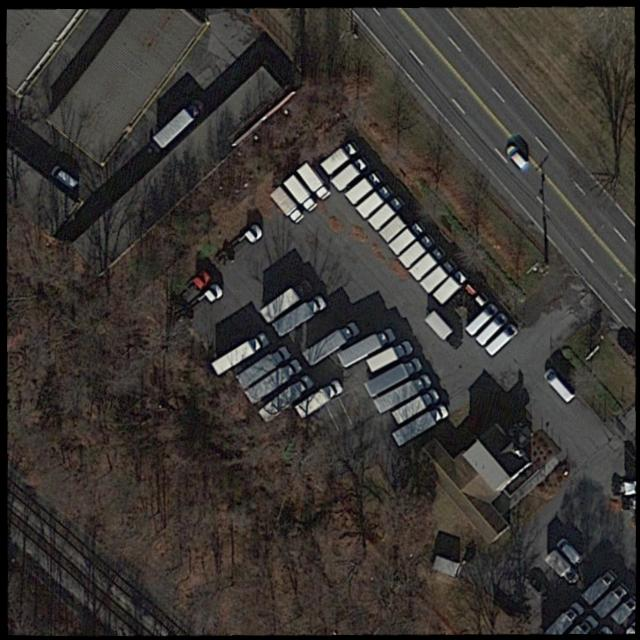large-vehicle: (150, 95, 207, 150), (207, 329, 269, 376), (256, 373, 311, 422), (300, 320, 357, 366), (241, 358, 298, 403), (334, 325, 395, 367), (388, 402, 447, 445), (361, 354, 421, 396), (269, 292, 325, 336), (232, 343, 289, 386), (370, 372, 428, 414), (257, 277, 310, 322), (293, 378, 342, 419), (388, 387, 438, 423), (362, 337, 411, 372), (540, 546, 580, 586), (579, 565, 619, 604), (266, 182, 303, 224), (591, 580, 629, 620), (416, 256, 455, 294), (405, 241, 444, 279), (352, 183, 392, 220), (538, 366, 575, 406), (317, 139, 357, 175), (366, 193, 403, 231), (280, 171, 315, 211), (429, 267, 466, 304), (294, 162, 330, 200), (328, 155, 366, 190), (481, 321, 519, 356), (385, 221, 423, 255), (343, 170, 382, 203), (472, 309, 506, 346), (395, 233, 432, 267), (462, 301, 496, 335)
small-vehicle: (47, 161, 79, 193), (553, 534, 583, 565), (503, 140, 530, 169)
